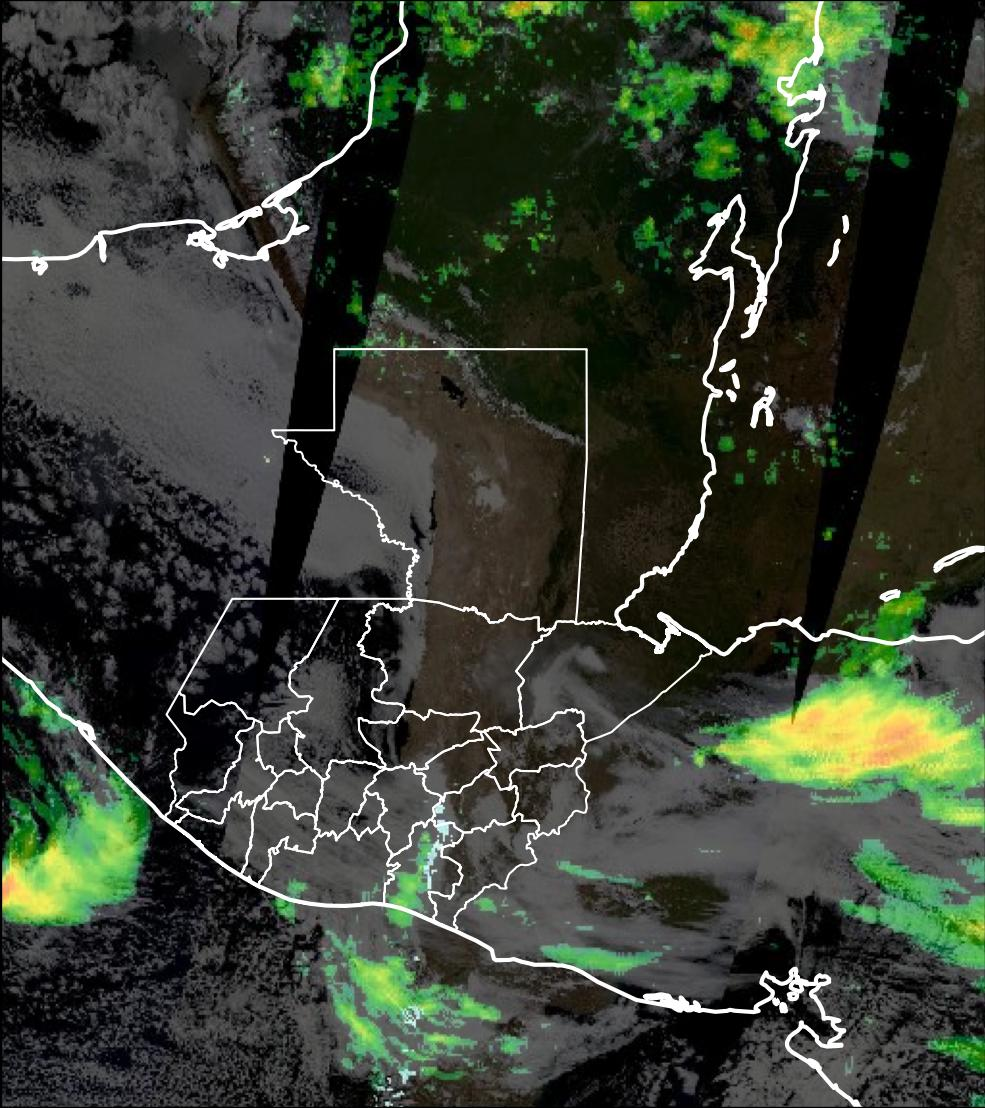precipitacion: (765, 686, 934, 780)
